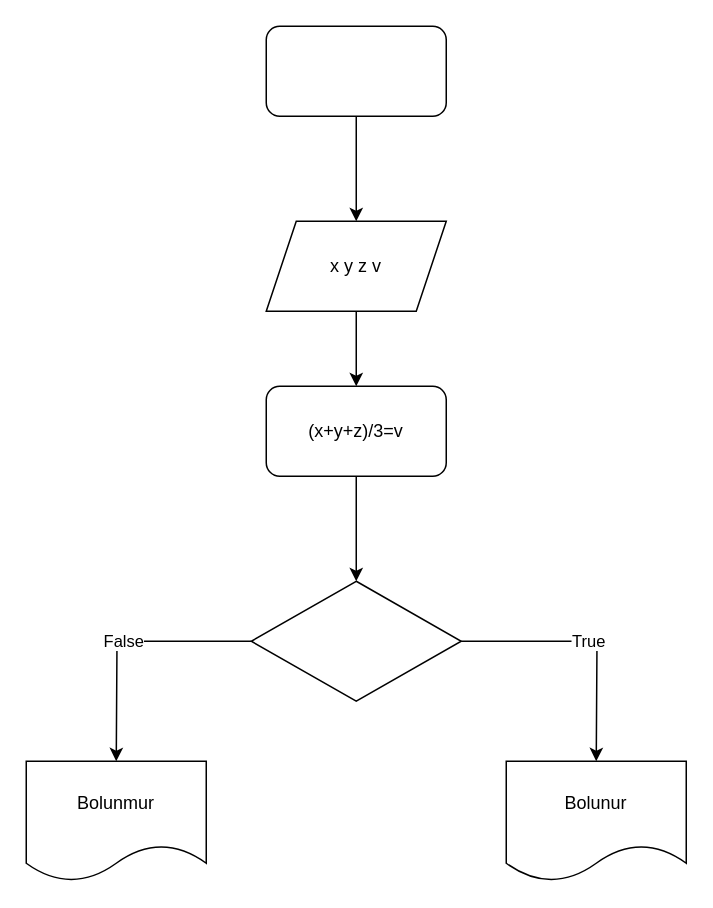
Image size: 713x908. Some labels were removed from this diagram. Each missing label, with the centre of its shape:
Start: point 355,70
v/3%==0 && v/3%==0: point 355,640
